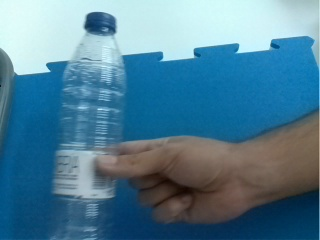botella plastico: (51, 12, 128, 240)
